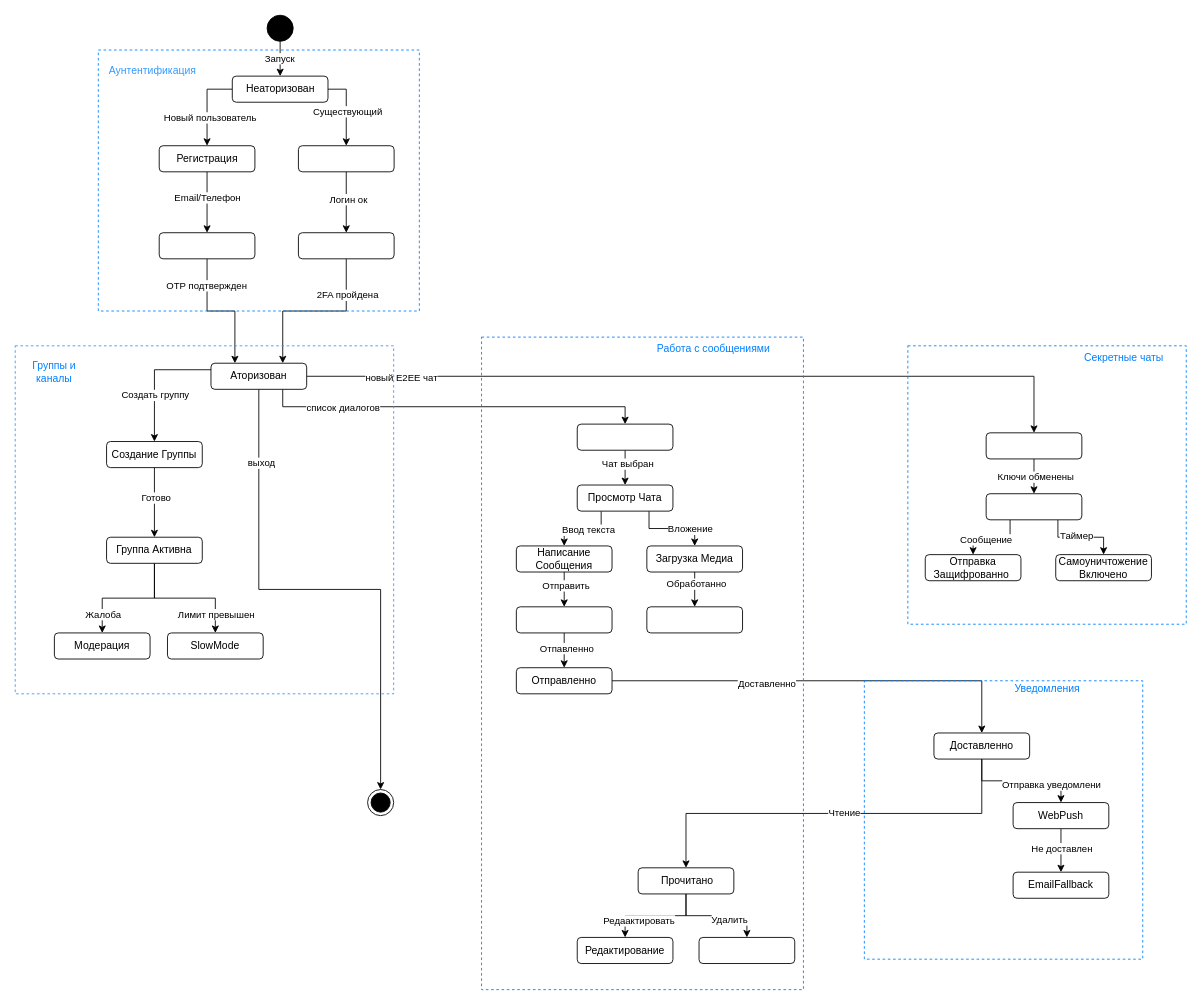
Image size: 1201x1005. Some labels were removed from this diagram. Each missing label, with the centre of its shape:
E2EE Активен: point 1033,506
Вход: point 346,158
Выбор Чата: point 624,436
ИнициализацияE2EE: point 1033,445
Медиа Готово: point 694,619
Ожидание OTP: point 206,245
Отправка: point 563,619
Проверка2FA: point 346,245
Удаление: point 746,950
